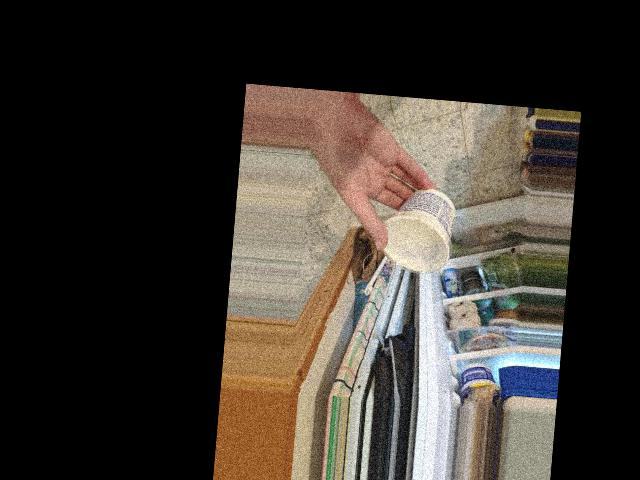cotage: (379, 183, 450, 275)
